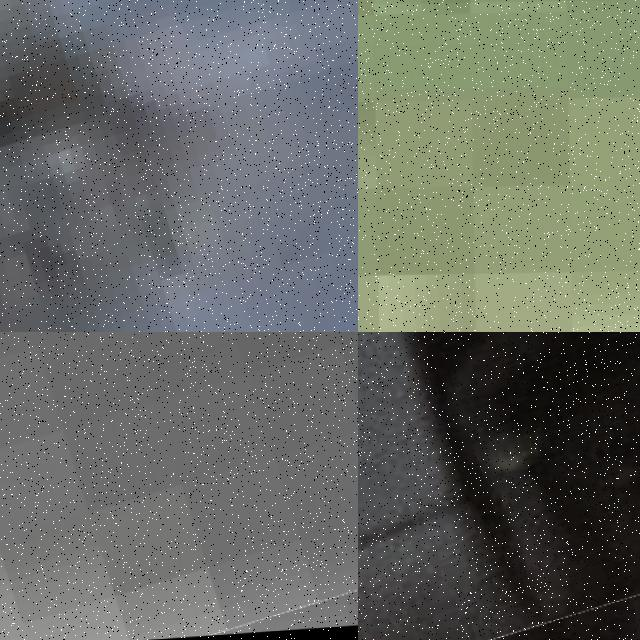0: (0, 332, 358, 640)
drone: (0, 0, 358, 332), (358, 332, 640, 640)
